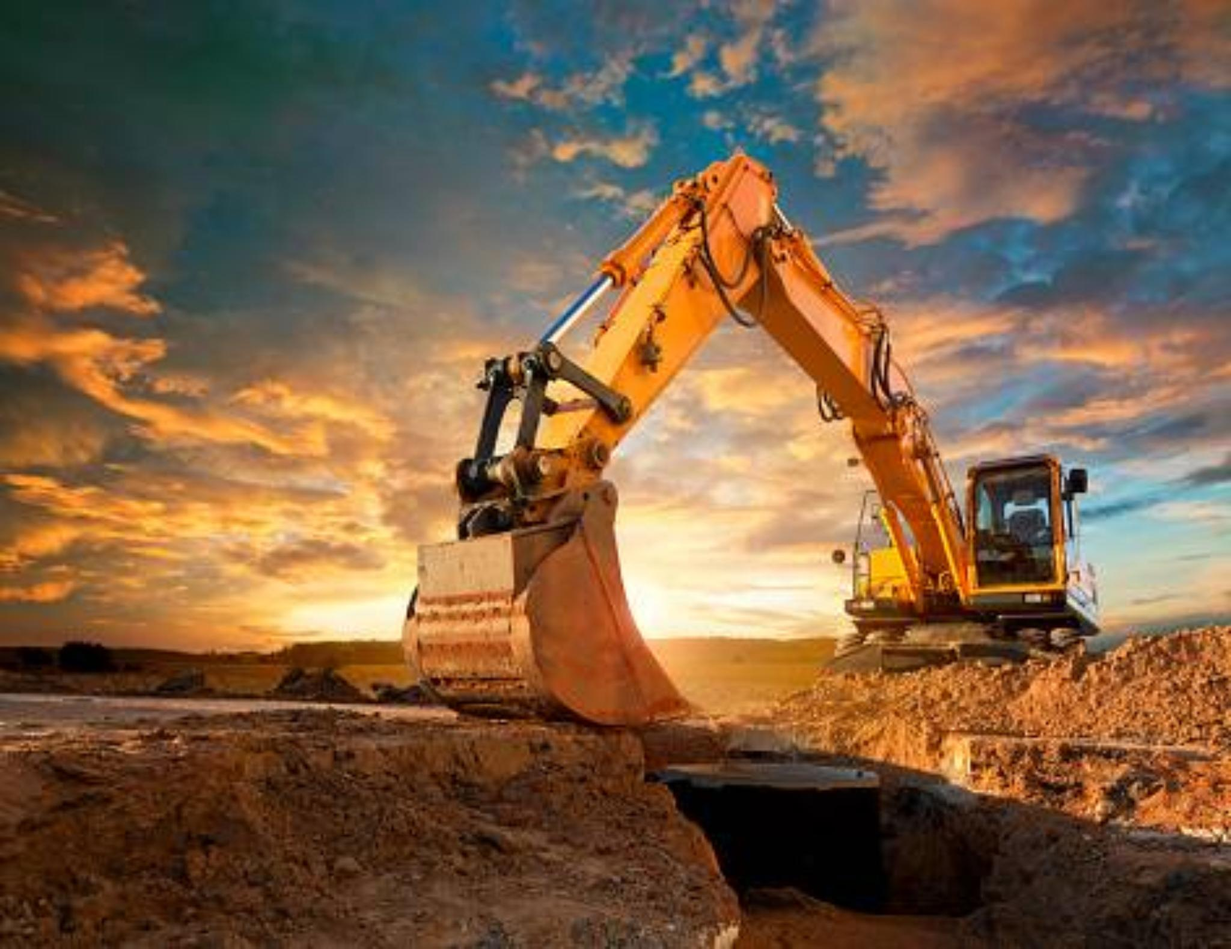excavator: (404, 154, 1093, 722)
